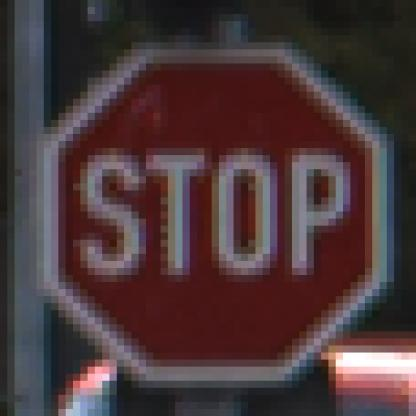Stop: (47, 52, 388, 381)
